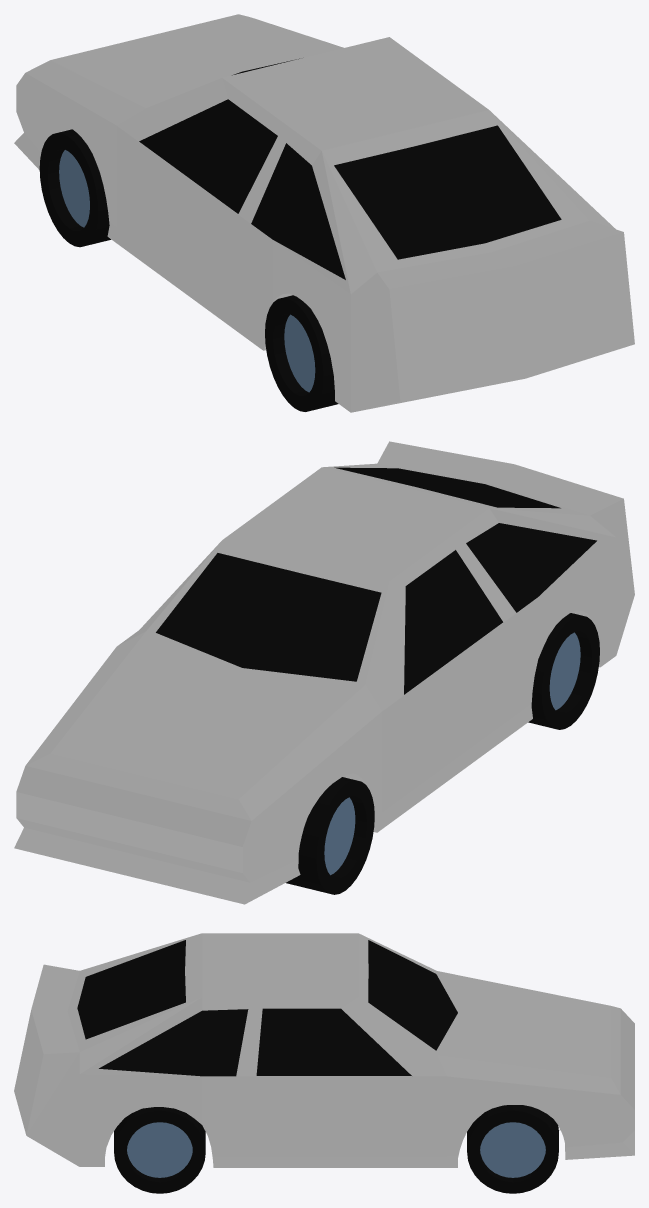
The picture shows the model from 3 angles, top to bottom: view 1: azimuth 30°, elevation 25°; view 2: azimuth 150°, elevation 25°; view 3: azimuth 270°, elevation 25°; orthographic projection. The views are drawn at different scales.
Parts seen in each view (by area): view 1: Body; view 2: Body; view 3: Body.
Boxes of the visible parts, x1,y1,x2,y2 form: Body: (14, 14, 634, 412); Body: (14, 441, 634, 904); Body: (14, 933, 634, 1193).
Bounding box in the file's own units: 1.96 × 1.52 × 4.87.
